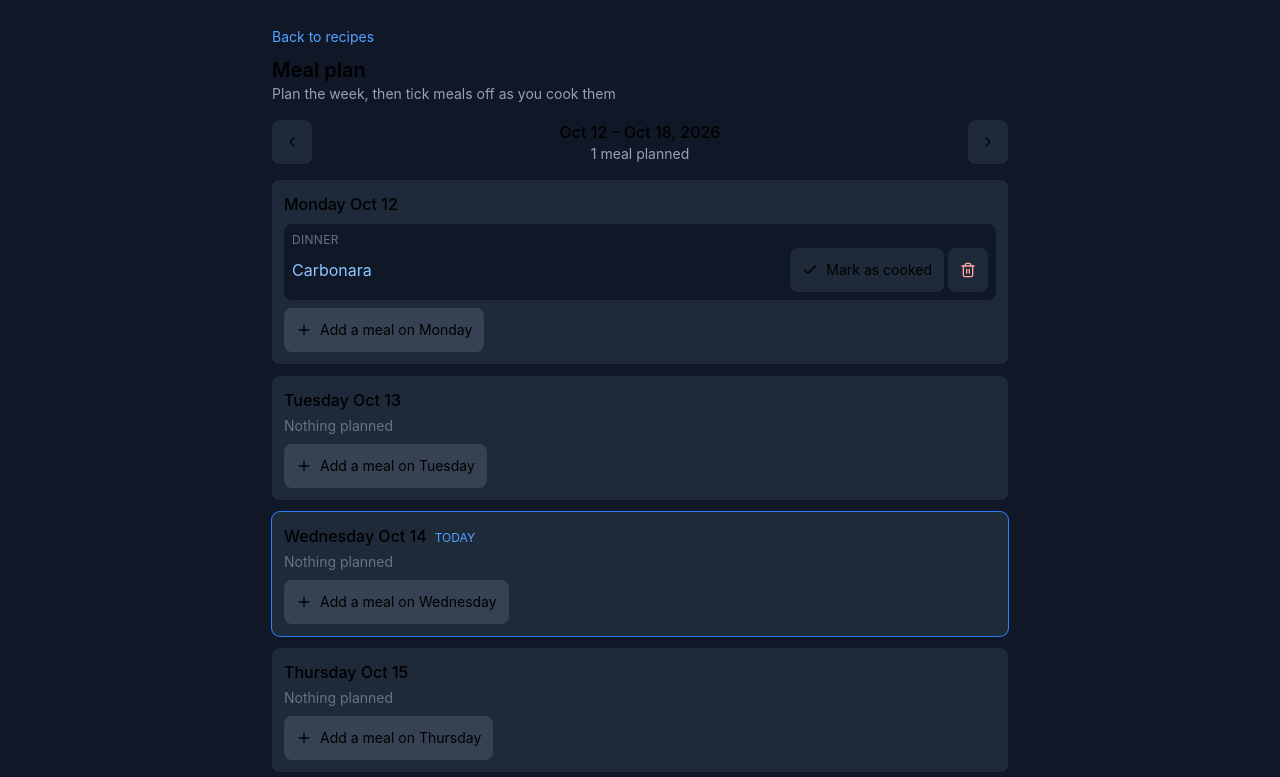
Test case: MealPlanner › assigns a recipe by tapping a day and then a recipe
This screenshot has width=1280, height=777.
Click the button "Add a meal on Tuesday": [385, 466] box [284,444,487,488]
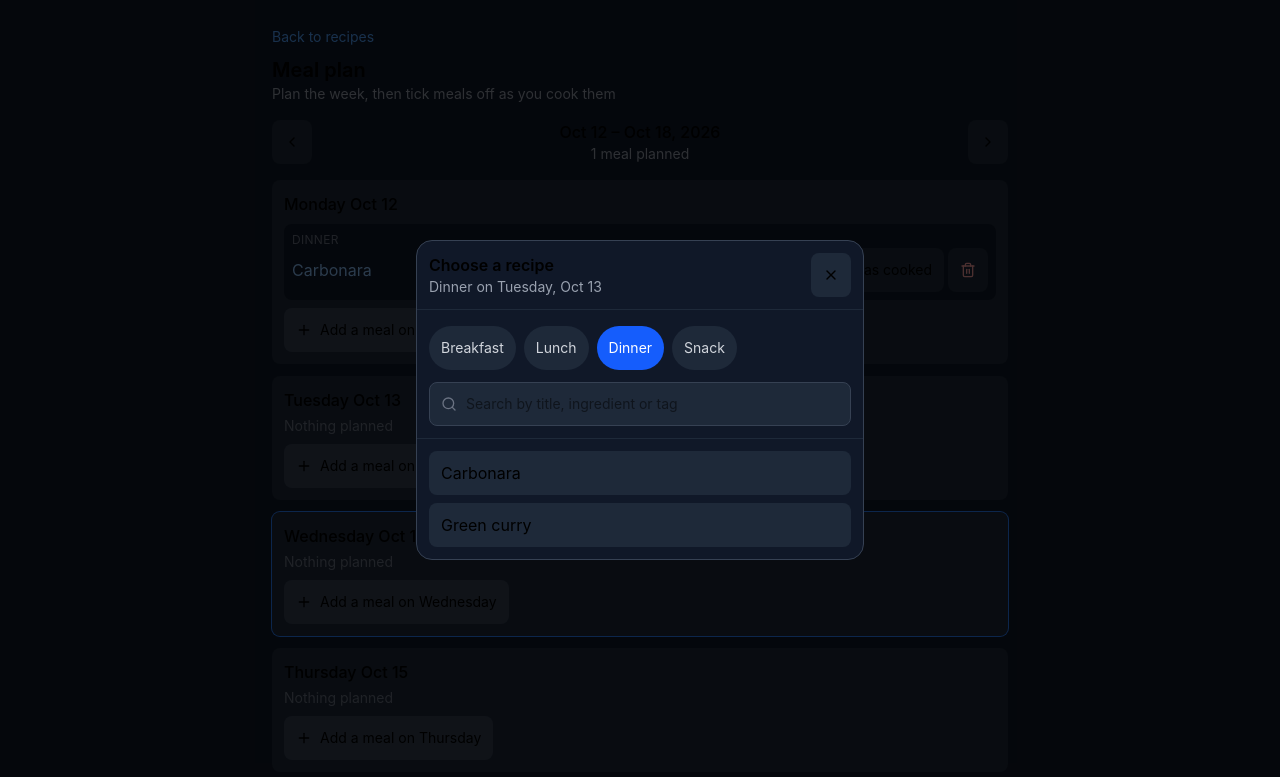
Click the button "Green curry": [486, 525] box [429,503,851,547]
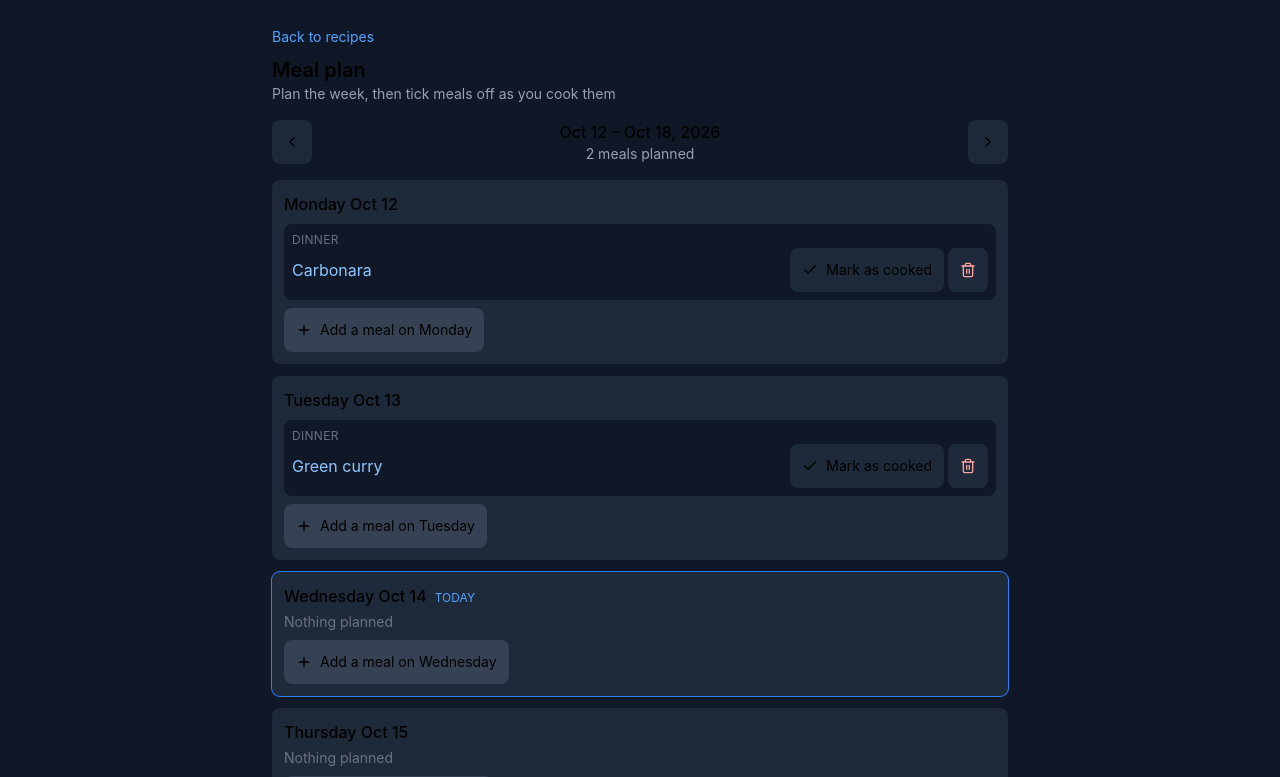
Check: the heading "Choose a recipe" is gone
Check: the text "2 meals planned" is shown, box [586,145,694,162]
